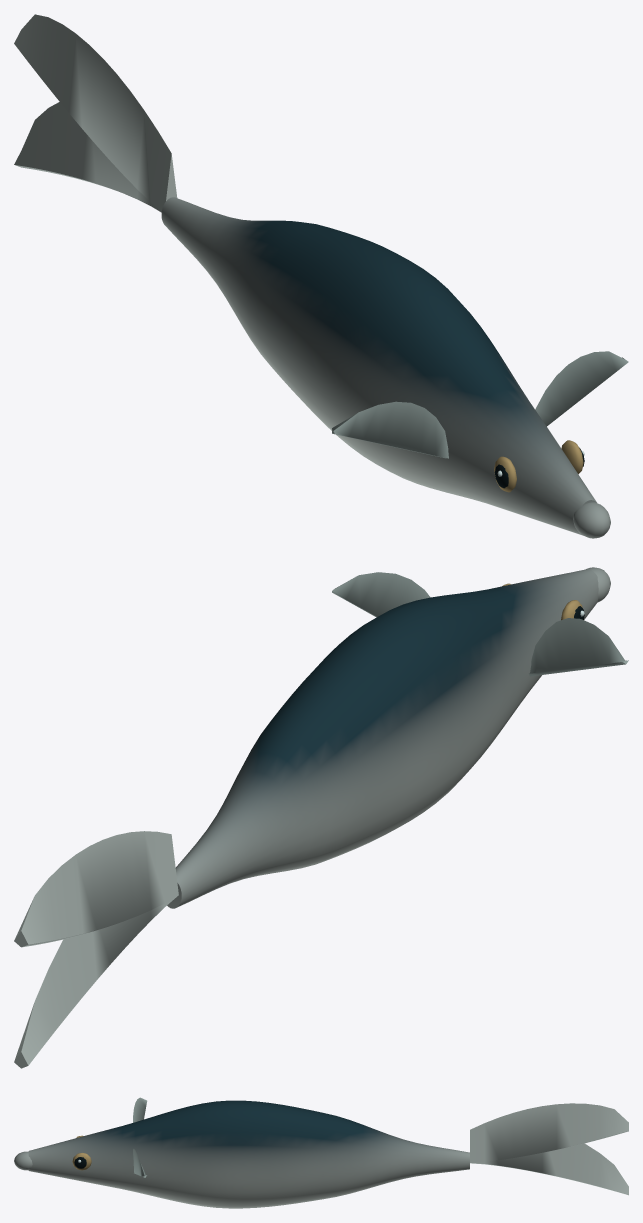
Rendered from silver_fish.glb.
3 renders of one model, top to bottom at view 1: azimuth 30°, elevation 25°; view 2: azimuth 150°, elevation 25°; view 3: azimuth 270°, elevation 25°, orthographic. The views are drawn at different scales.
Visible parts, largest first — view 1: Pelagic.silver_fish.Surface; view 2: Pelagic.silver_fish.Surface; view 3: Pelagic.silver_fish.Surface.
Boxes of the visible parts, left/top/right/bottom form: Pelagic.silver_fish.Surface: left=14, top=14, right=628, bottom=538; Pelagic.silver_fish.Surface: left=14, top=567, right=628, bottom=1068; Pelagic.silver_fish.Surface: left=14, top=1097, right=628, bottom=1208.
Size of the model in its own units: 0.2033 by 0.1278 by 0.6966.
